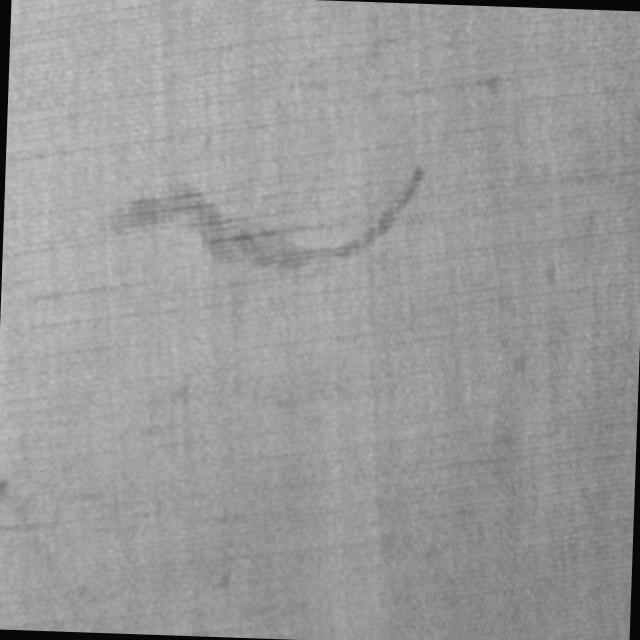oil spot: (107, 142, 426, 278)
